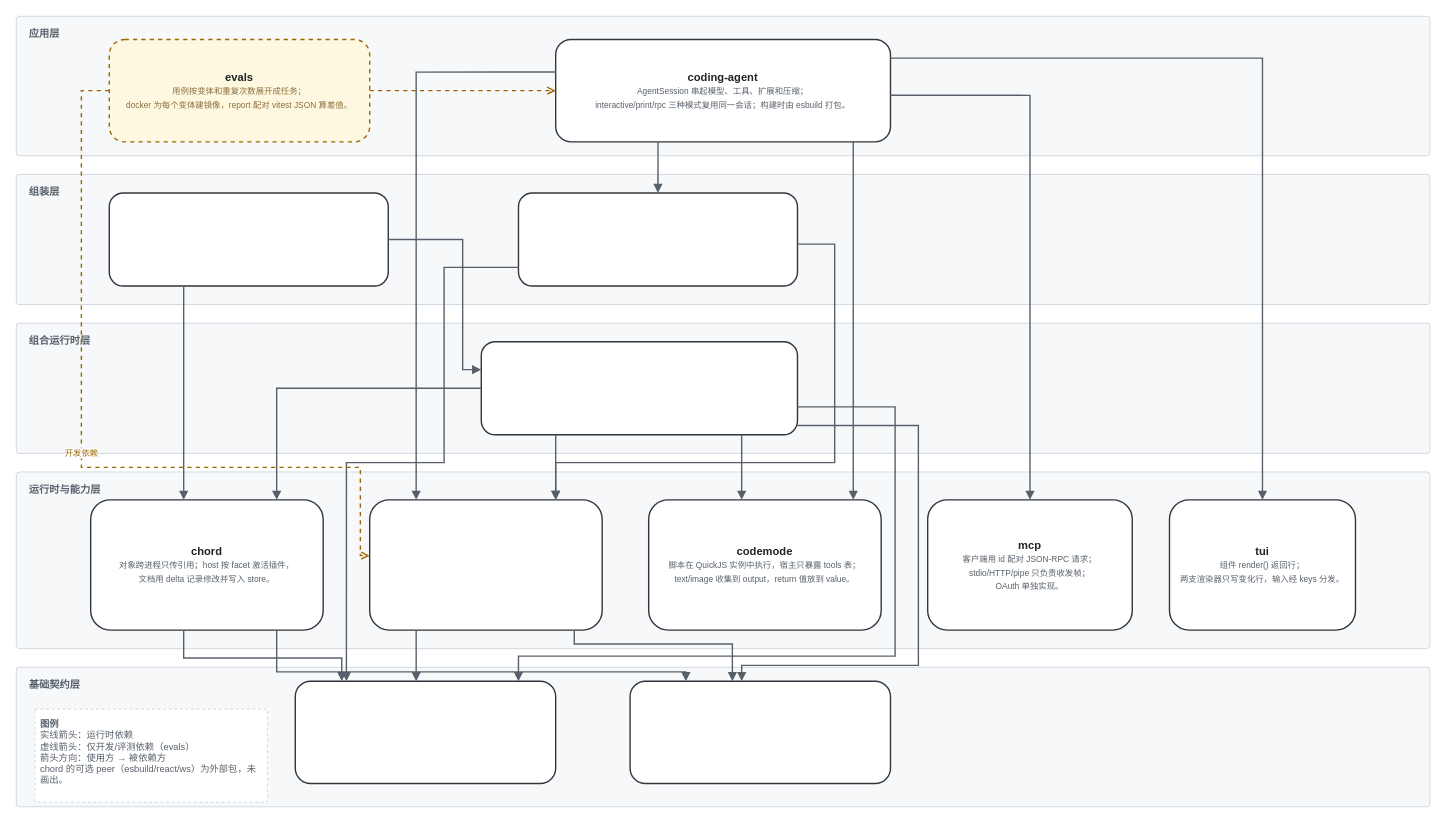
This 1446x823 diagram has some shape labels left out. Here are the shapes that lost their labels. From the top down, the centre of each, then its label:
(248,239): env daemon 在 stdin/stdout 上用长度前缀帧收发请求； Connection 配对请求 id，SSH 负责部署并启动 daemon。
(657,239): agent Agent 持有消息数组；每轮把消息和工具定义交给 streamFn， 收到 toolCall 后执行并追加 toolResult。
(639,388): durable 会话和任务状态写成 chord 文档，运行前先 commit； 调度器恢复未完成 task，compaction 另起任务压缩上下文。
(485,564): ai provider 目录做请求与流解析； catalog 生成模型清单，auth/ 解析凭据。
(425,732): schema builders 只产出普通 JSON 对象；compile 把它转成校验闭包； Static 从同一份定义推出 TypeScript 类型。
(760,732): telemetry span、计数器和直方图都以回调上报； 内存记录器保存事件，testing/ 用同一组断言检查适配器。
